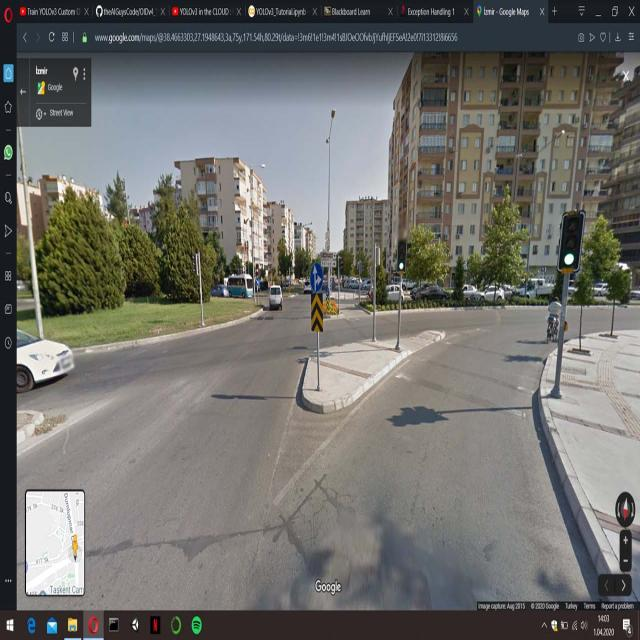ilerisag: (310, 263, 322, 292)
yesil: (561, 212, 581, 269), (397, 240, 405, 271)
